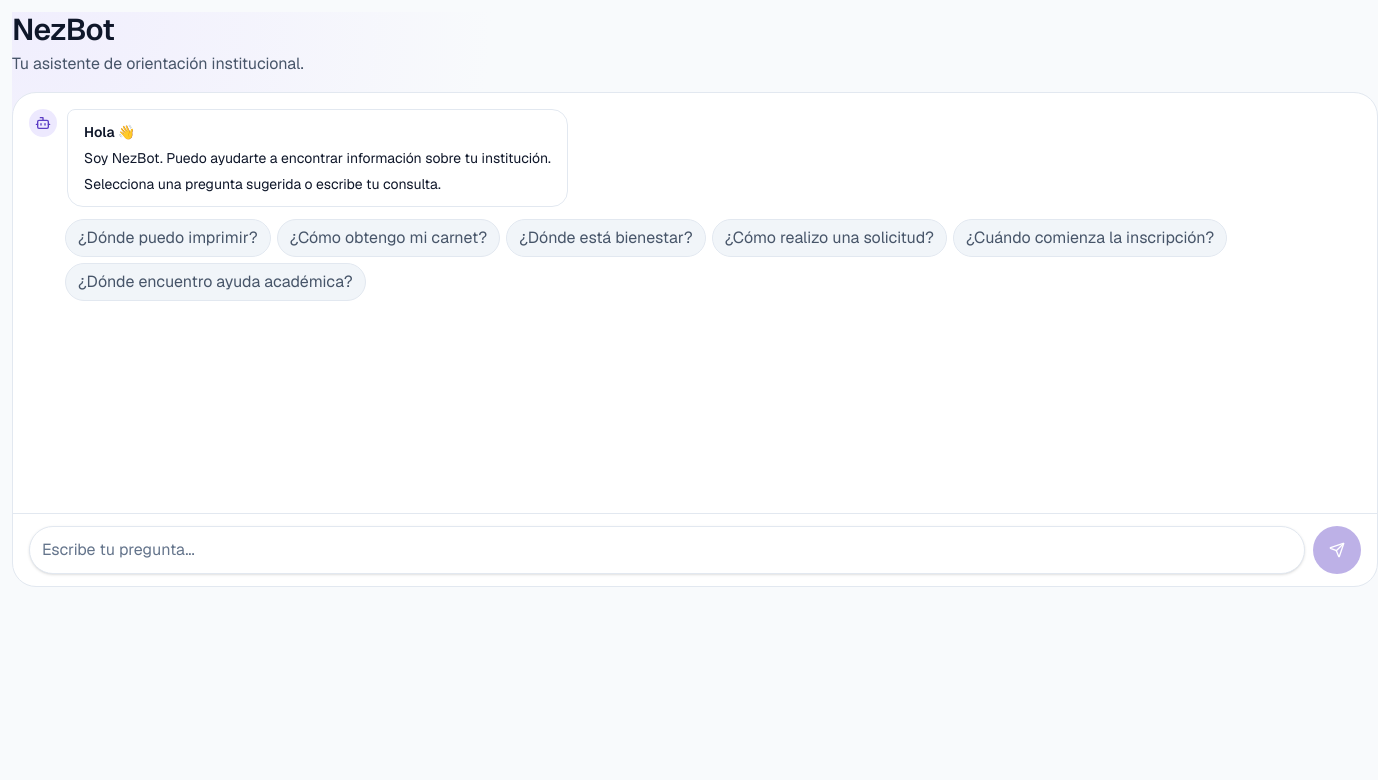
Test: NezbotClientPage — conversación › envía al hacer clic en una pregunta sugerida
Click the button "¿Dónde puedo imprimir?" at (168, 238), box [65, 219, 271, 257]
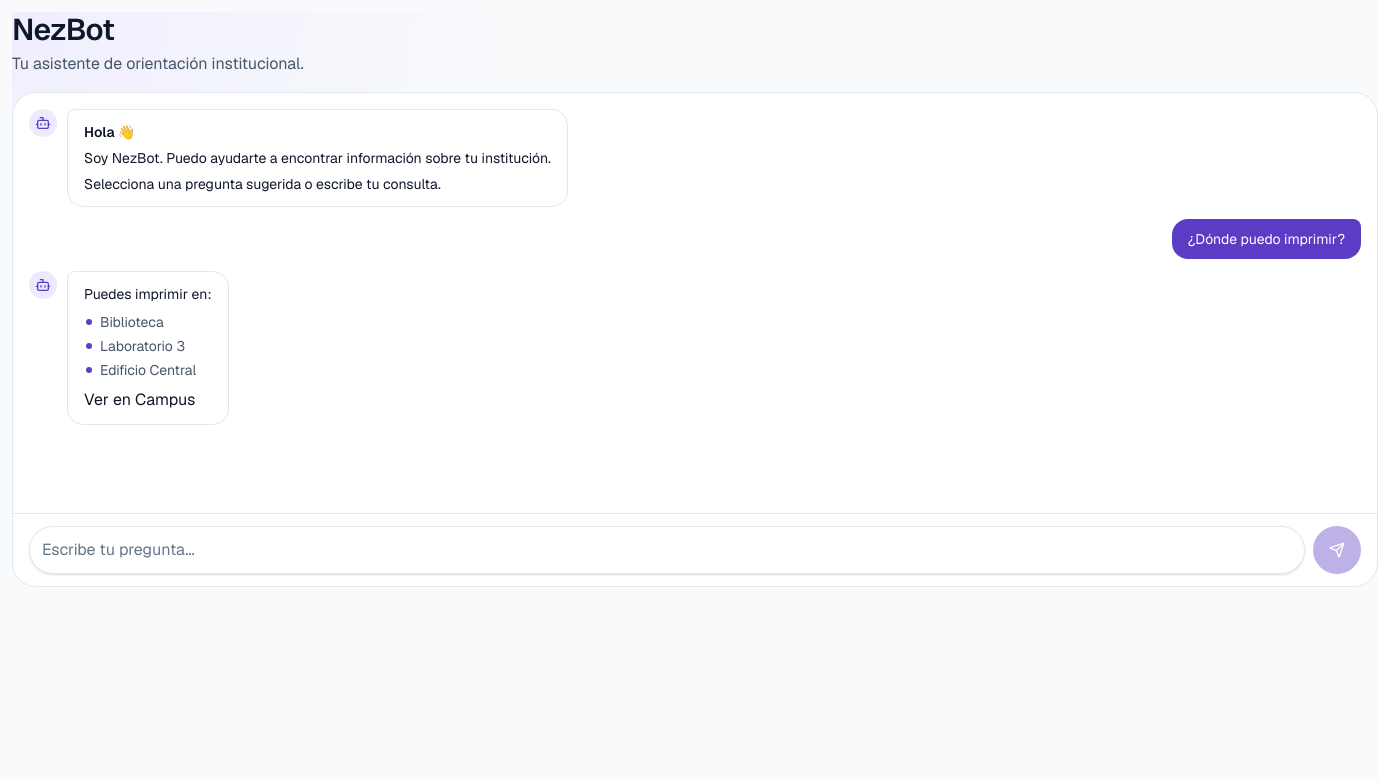
Expected: the text "¿Dónde puedo imprimir?" is shown, [1172, 219, 1361, 259]
Expected: the text "Puedes imprimir en:" is shown, [84, 284, 212, 304]
